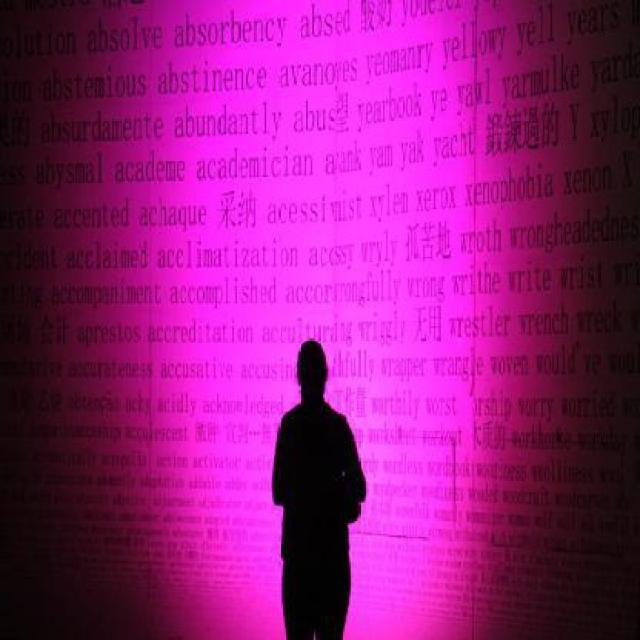Person: (270, 336, 368, 639)
